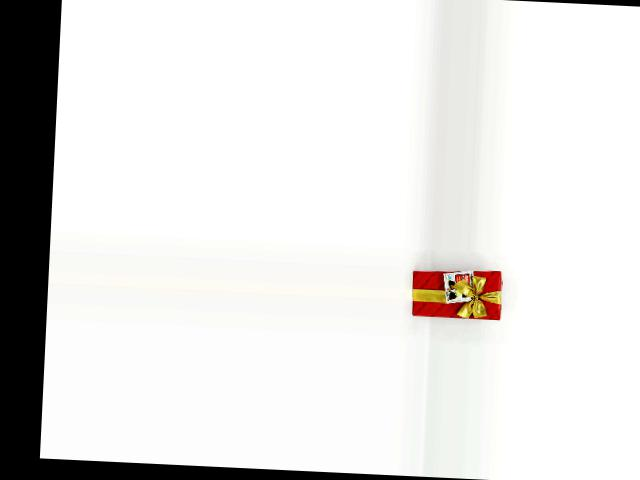chocolate: (411, 267, 505, 324)
